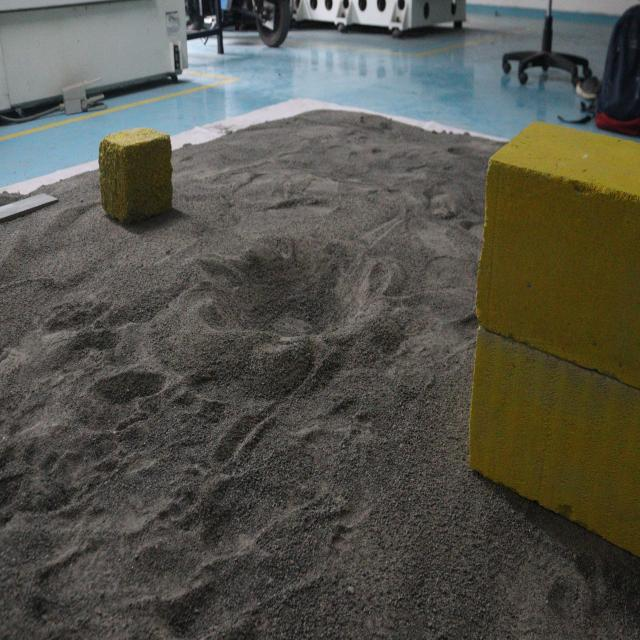box: (471, 117, 640, 561), (100, 124, 180, 239)
crater: (180, 242, 388, 380)
